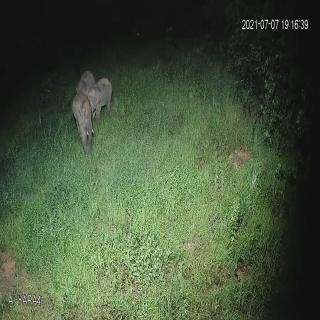Elephant: (71, 90, 97, 155), (88, 75, 118, 119)
